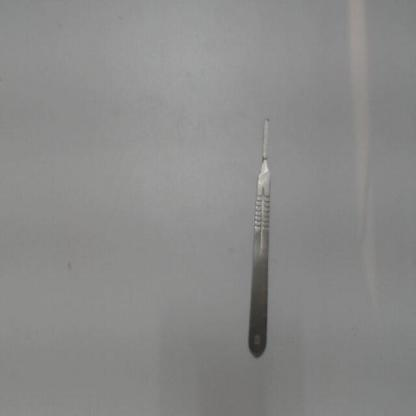No.4 BP Handle: (243, 114, 278, 366)
